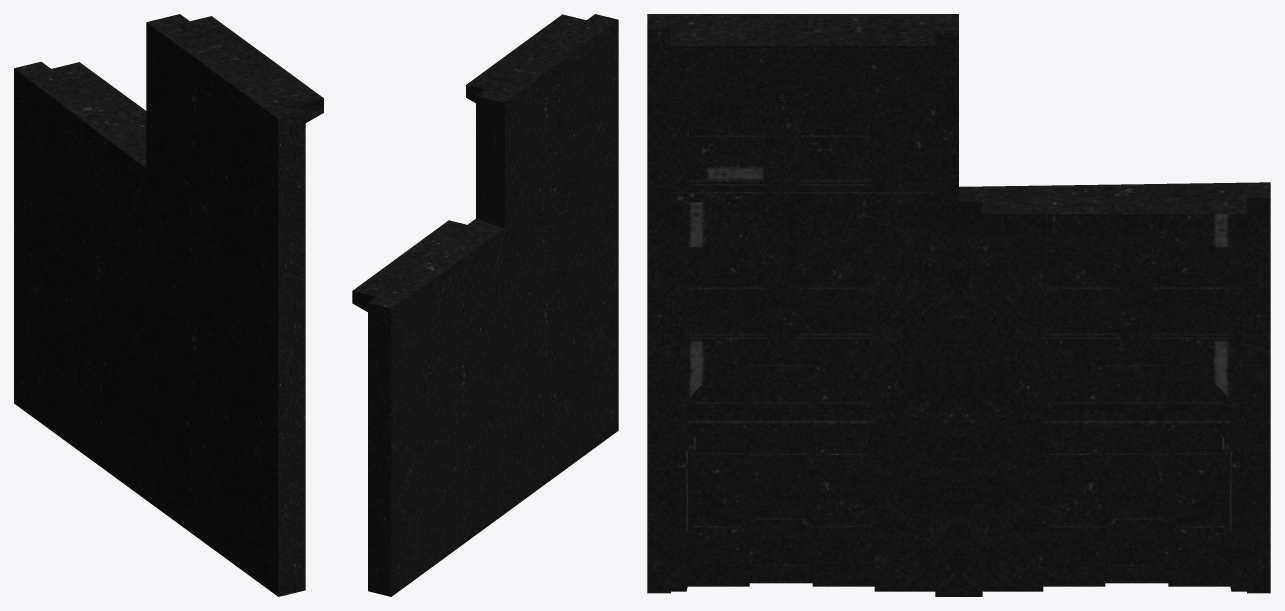
Rendered from Building_02.fbx.
3 views of the same model, side by side, from view 1: azimuth 30°, elevation 25°; view 2: azimuth 150°, elevation 25°; view 3: azimuth 270°, elevation 25° (orthographic). The views are drawn at different scales.
Parts seen in each view (by area): view 1: pasted__pCube1; view 2: pasted__pCube1; view 3: pasted__pCube1.
Part boxes in pixels (x1,y1,x2,y2): pasted__pCube1: (14, 14, 323, 596); pasted__pCube1: (352, 14, 618, 596); pasted__pCube1: (647, 14, 1270, 596).
Bounding box in the file's own units: 24.01 × 198 × 198.
